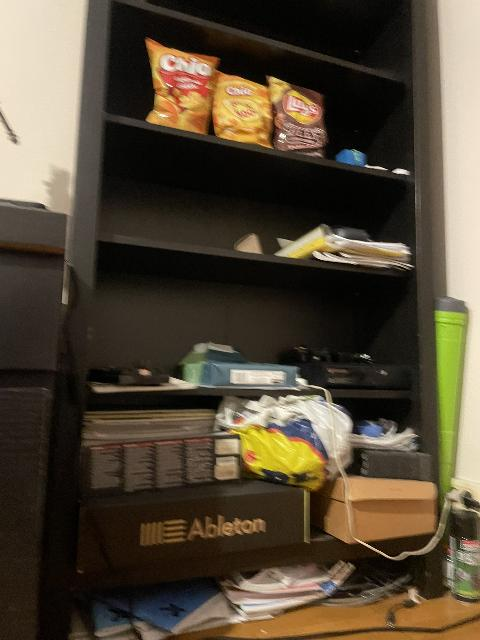Chio Cascaval 125g: (143, 37, 222, 135)
Chio Hula Hoops Cheese 70g: (211, 71, 276, 146)
Lays Beef Grilled Ribs 125g: (271, 79, 333, 156)
